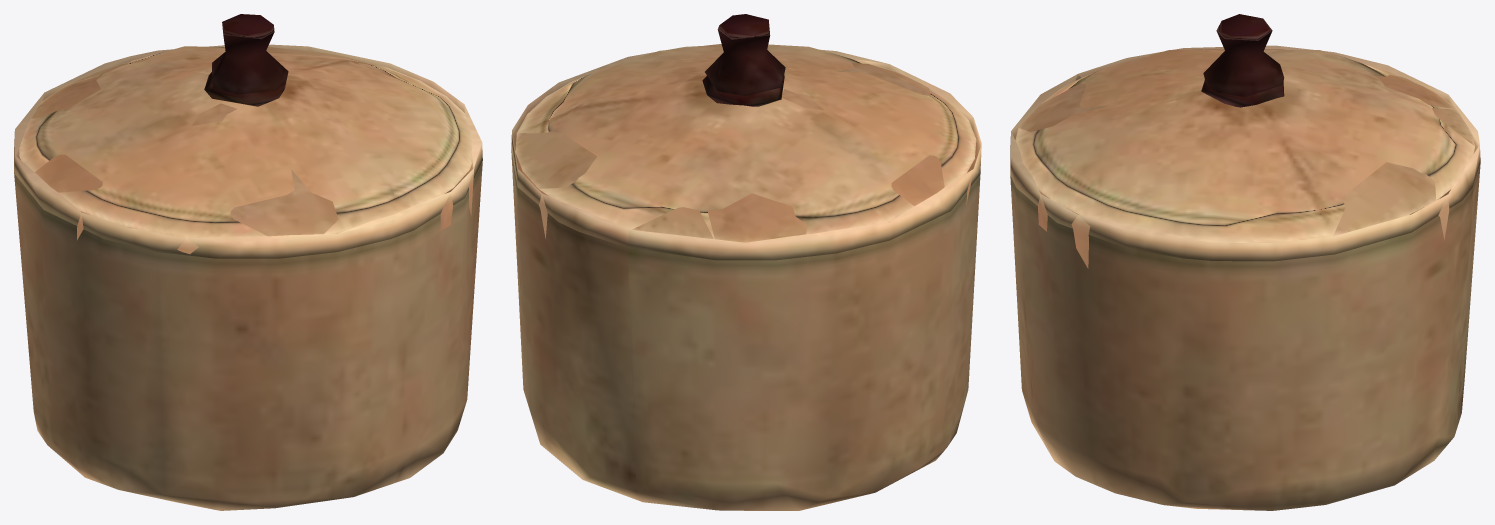
File: pot.glb
3 renders of one model, left to right at view 1: azimuth 30°, elevation 25°; view 2: azimuth 150°, elevation 25°; view 3: azimuth 270°, elevation 25°, orthographic.
Visible parts, largest first — view 1: brass_pot_01; view 2: brass_pot_01; view 3: brass_pot_01.
Boxes of the visible parts, bbox=[...] form: brass_pot_01: bbox=[14, 14, 482, 510]; brass_pot_01: bbox=[511, 14, 981, 510]; brass_pot_01: bbox=[1010, 14, 1480, 510].
Bounding box in the file's own units: 0.298 × 0.2874 × 0.298.
1 material, 1 textured.
